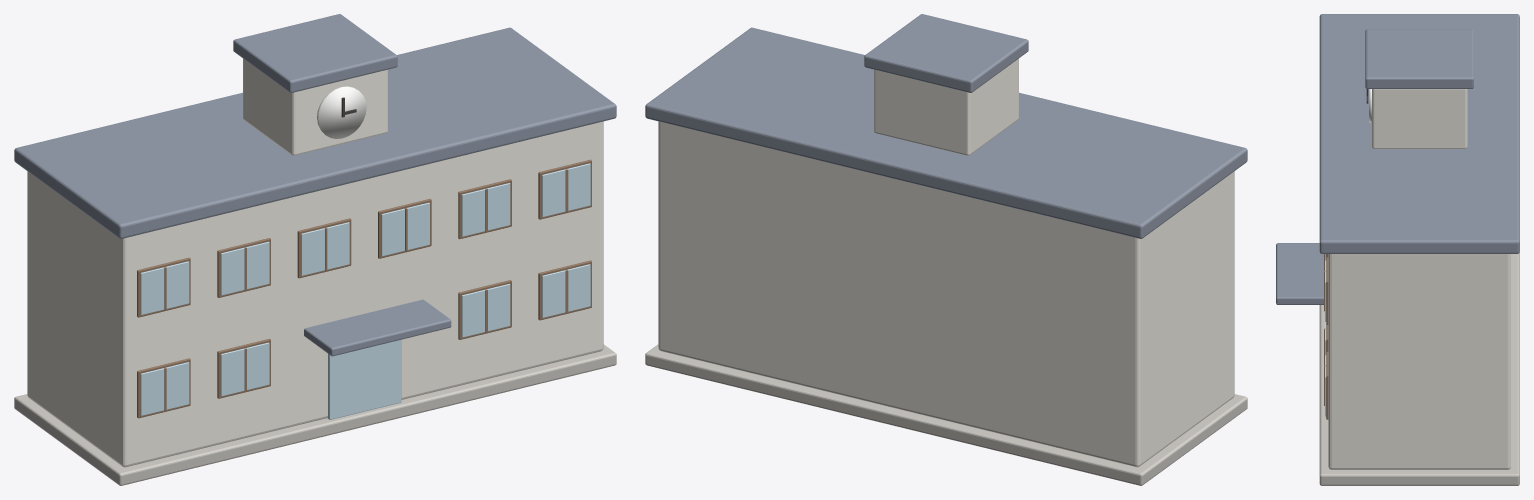
Rendered from school.glb.
The picture shows the model from 3 angles, left to right: view 1: azimuth 30°, elevation 25°; view 2: azimuth 150°, elevation 25°; view 3: azimuth 270°, elevation 25°; orthographic projection. The views are drawn at different scales.
Parts seen in each view (by area): view 1: school; view 2: school; view 3: school.
Boxes of the visible parts, bbox=[...] form: school: bbox=[14, 14, 616, 485]; school: bbox=[645, 14, 1247, 485]; school: bbox=[1276, 14, 1519, 485].
Size of the model in its own units: 12.4 by 8.1 by 5.6.
